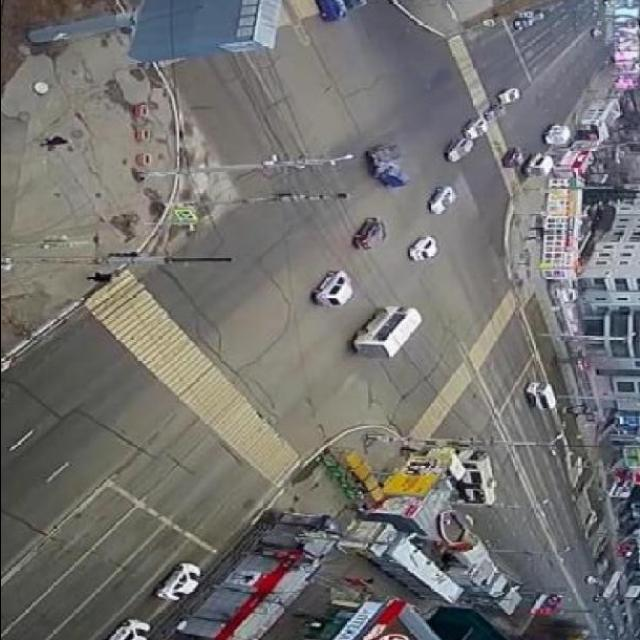accident: (363, 144, 411, 189)
